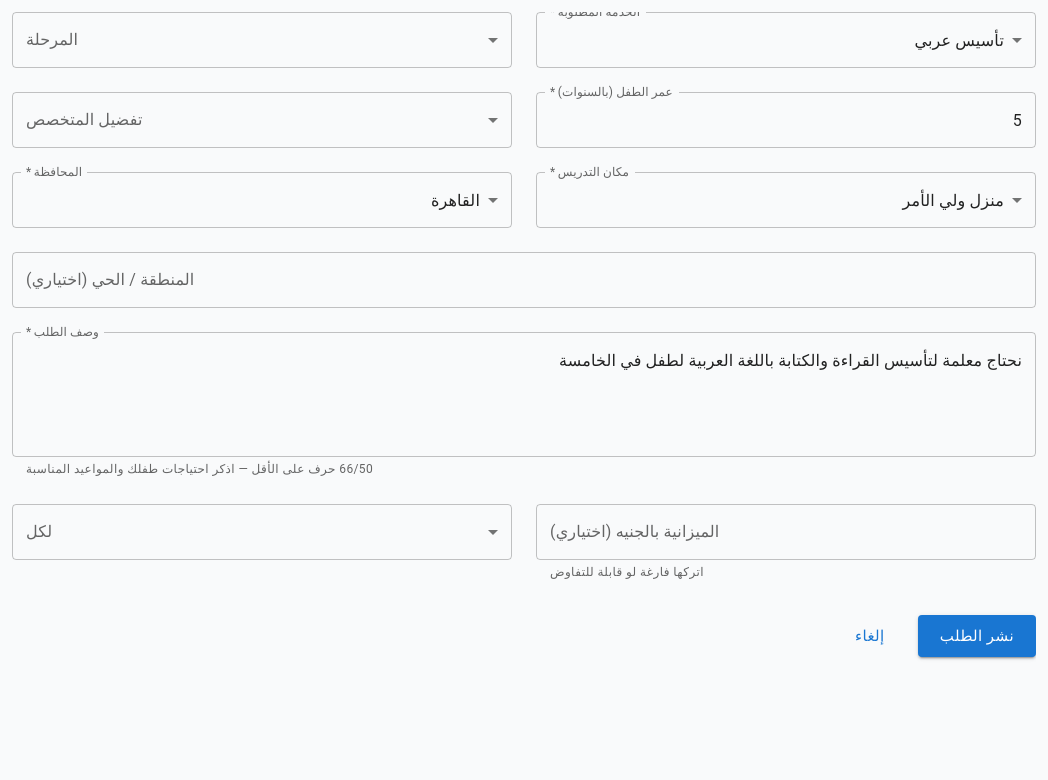
RequestForm › shows other database errors as they come
Click the button "نشر الطلب": {"x": 977, "y": 636} [918,615,1036,657]
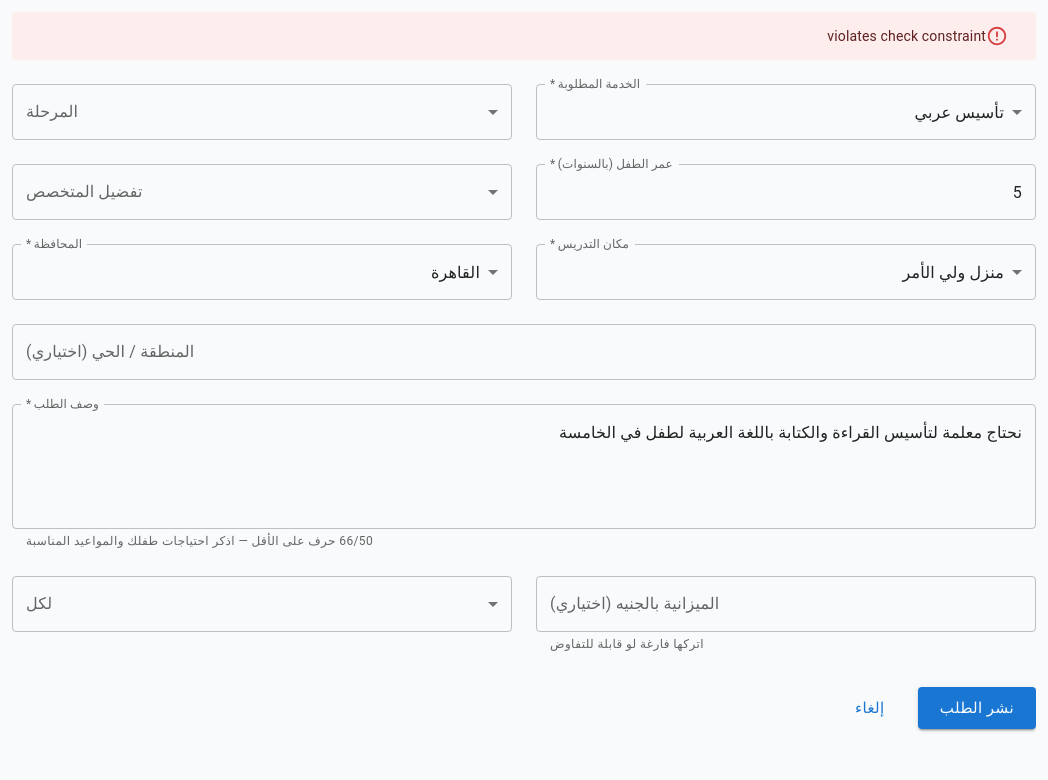
Result: the text "violates check constraint" is shown at [827,28,986,44]
